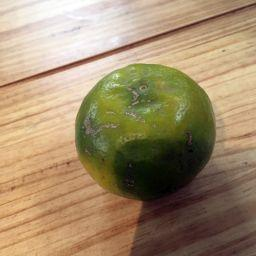Unripe: (76, 64, 217, 200)
